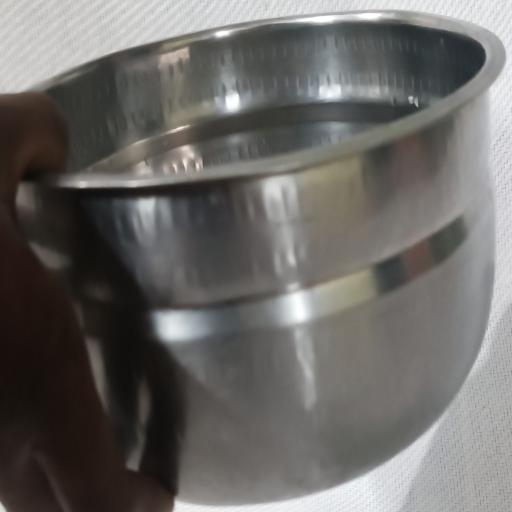vessel: (18, 12, 504, 503)
